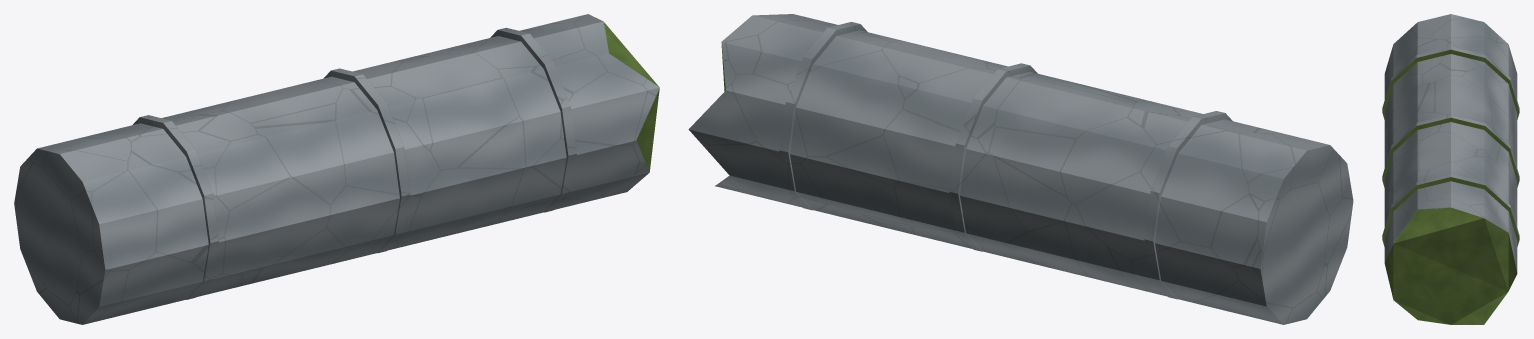
Rendered from observatory_pillar_fallen.glb.
3 views of the same model, side by side, from view 1: azimuth 30°, elevation 25°; view 2: azimuth 150°, elevation 25°; view 3: azimuth 270°, elevation 25° (orthographic). The views are drawn at different scales.
Visible parts, largest first — view 1: observatory_pillar_fallen_Mesh; view 2: observatory_pillar_fallen_Mesh; view 3: observatory_pillar_fallen_Mesh.
Boxes of the visible parts, left/top/right/bottom form: observatory_pillar_fallen_Mesh: left=14, top=14, right=659, bottom=324; observatory_pillar_fallen_Mesh: left=688, top=14, right=1353, bottom=324; observatory_pillar_fallen_Mesh: left=1382, top=14, right=1519, bottom=324.
Bounding box in the file's own units: 3.2 × 0.932 × 0.932.
Materials: 1 (1 with a texture image).
